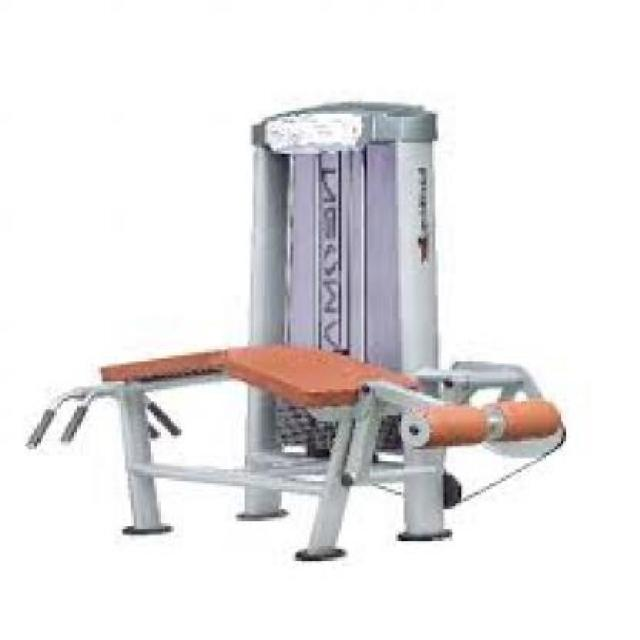reg curl machine: (17, 84, 632, 570)
